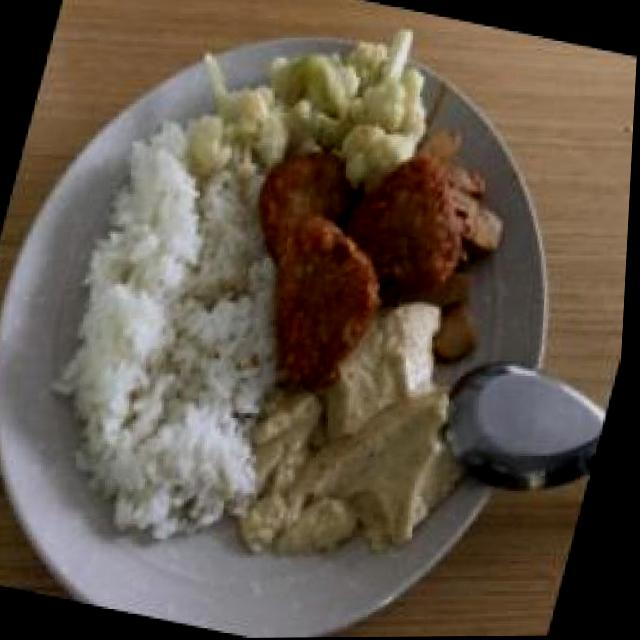rice: (30, 101, 342, 553)
triangle_hash_brown: (221, 127, 486, 404)
